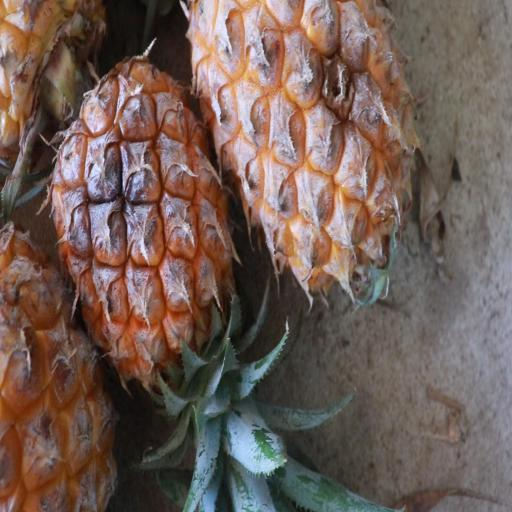Pineapple - v8 v1: (50, 39, 240, 444), (181, 0, 421, 309)
